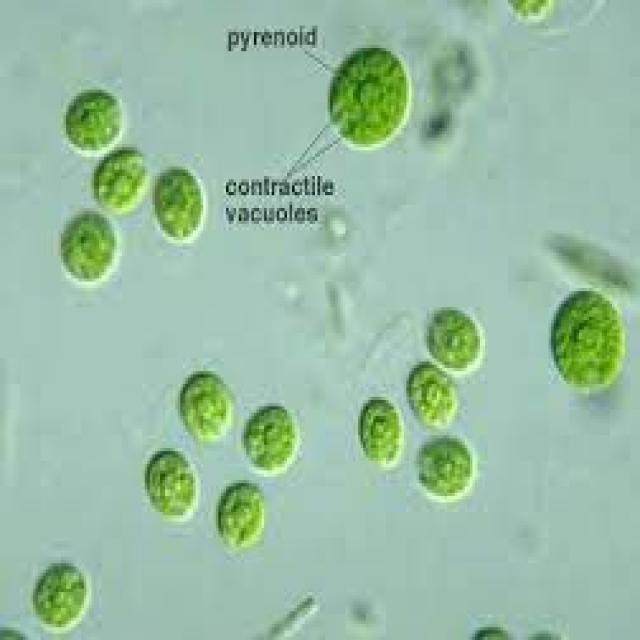Green Algae: (328, 44, 412, 154), (551, 285, 625, 390), (142, 445, 201, 528), (59, 208, 120, 285), (61, 83, 124, 157), (239, 403, 302, 477), (178, 368, 234, 448), (152, 163, 208, 240), (30, 557, 89, 630), (353, 394, 406, 474), (404, 355, 459, 429), (411, 435, 475, 496), (424, 308, 480, 374), (216, 483, 267, 554), (94, 144, 147, 208)
